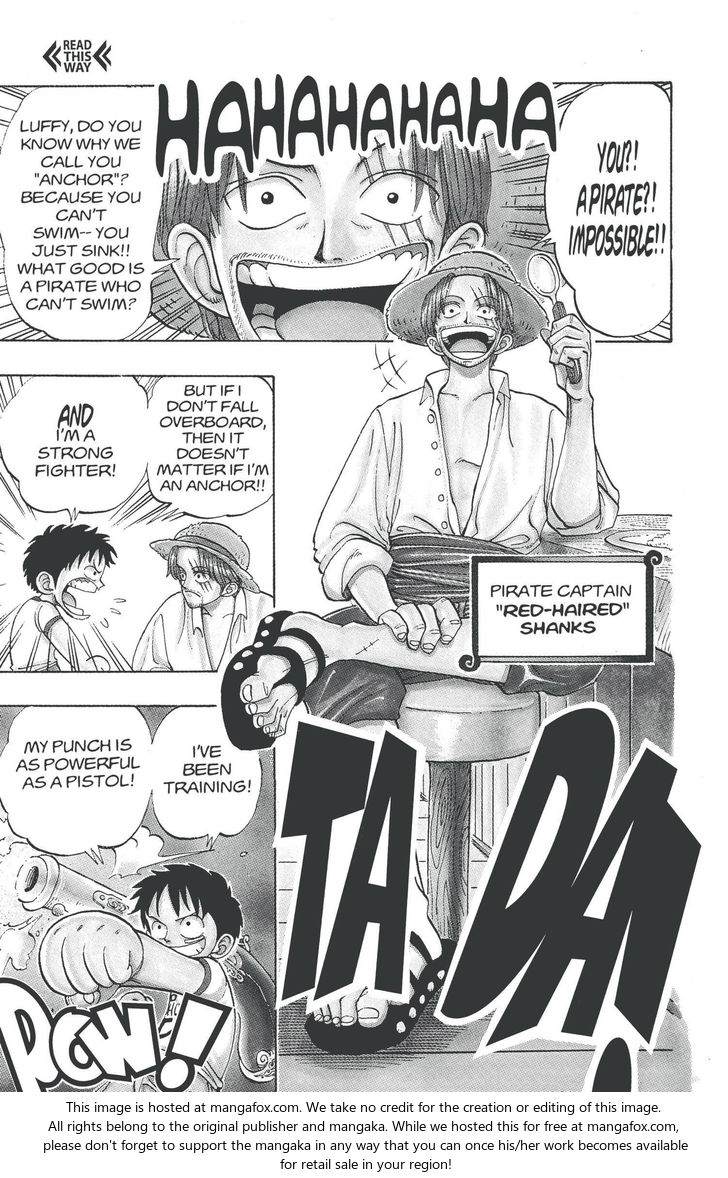bubble: (0, 85, 179, 341), (531, 82, 671, 337), (0, 706, 153, 865), (0, 375, 148, 524), (147, 375, 274, 525), (473, 557, 651, 661), (152, 706, 261, 848)
